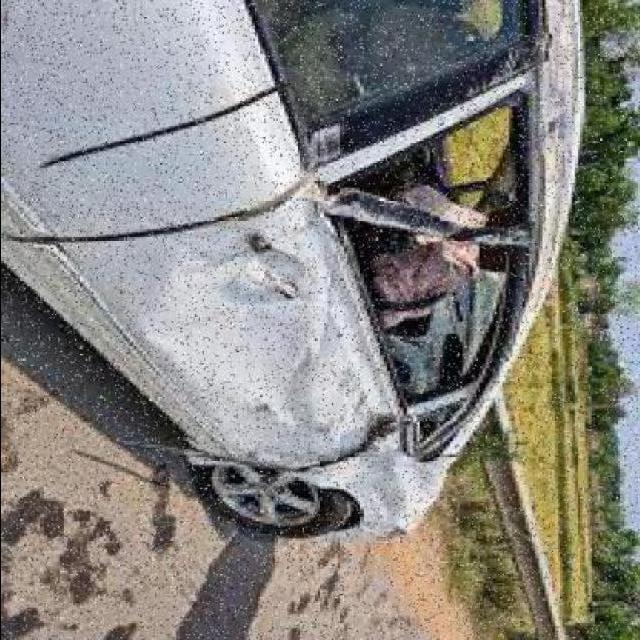doorouter-dent: (35, 220, 392, 464)
fender-dent: (293, 434, 452, 537)
pillar-dent: (290, 33, 571, 169), (349, 379, 525, 423)
roof-dent: (533, 0, 581, 320)
